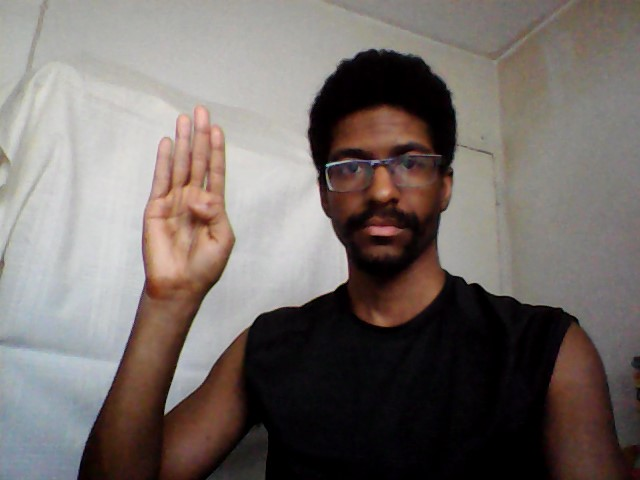b: (139, 101, 238, 295)
